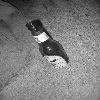beer: (24, 18, 65, 74)
